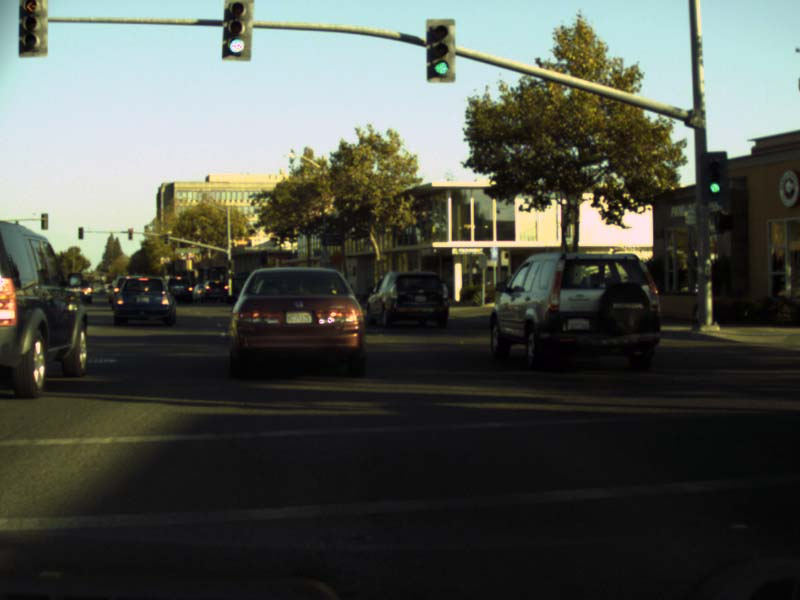Green: (428, 17, 453, 82), (703, 154, 728, 203)
